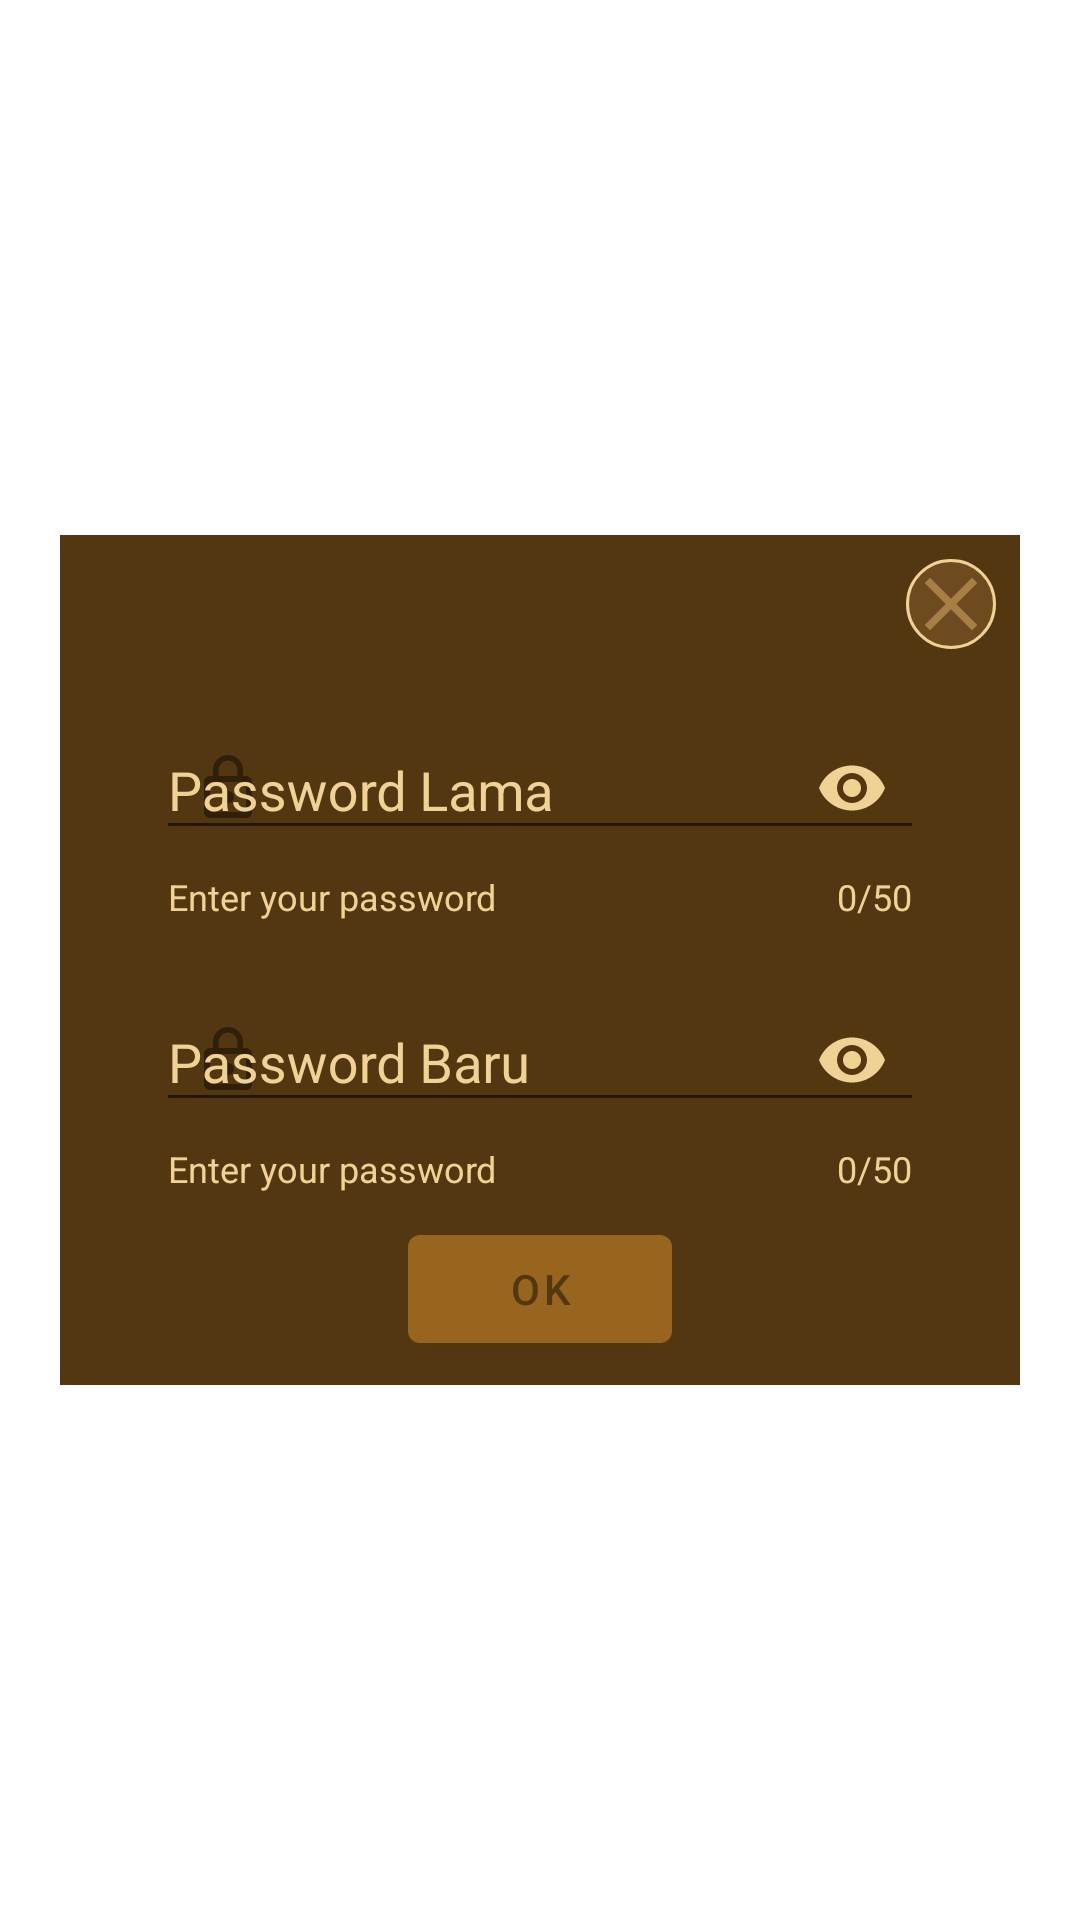

Icons on this 1080px x 1920px Android screen, each with the point to tap as point (x, y):
close: point (951, 604)
